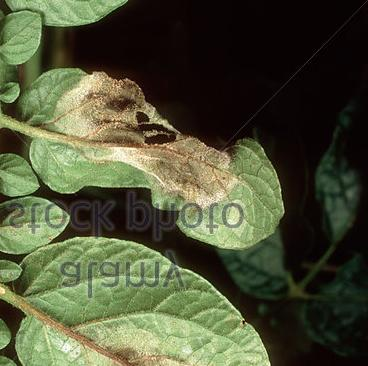Tomato leaf late blight: (9, 66, 293, 256), (14, 235, 283, 366)
